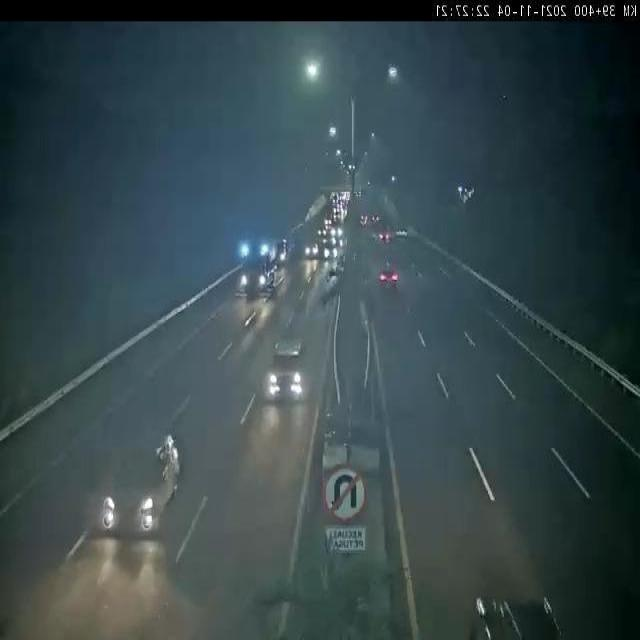Bus: (239, 234, 293, 307)
Car: (98, 421, 207, 539), (252, 329, 316, 409), (476, 587, 557, 640), (374, 259, 402, 296), (304, 238, 323, 262)
